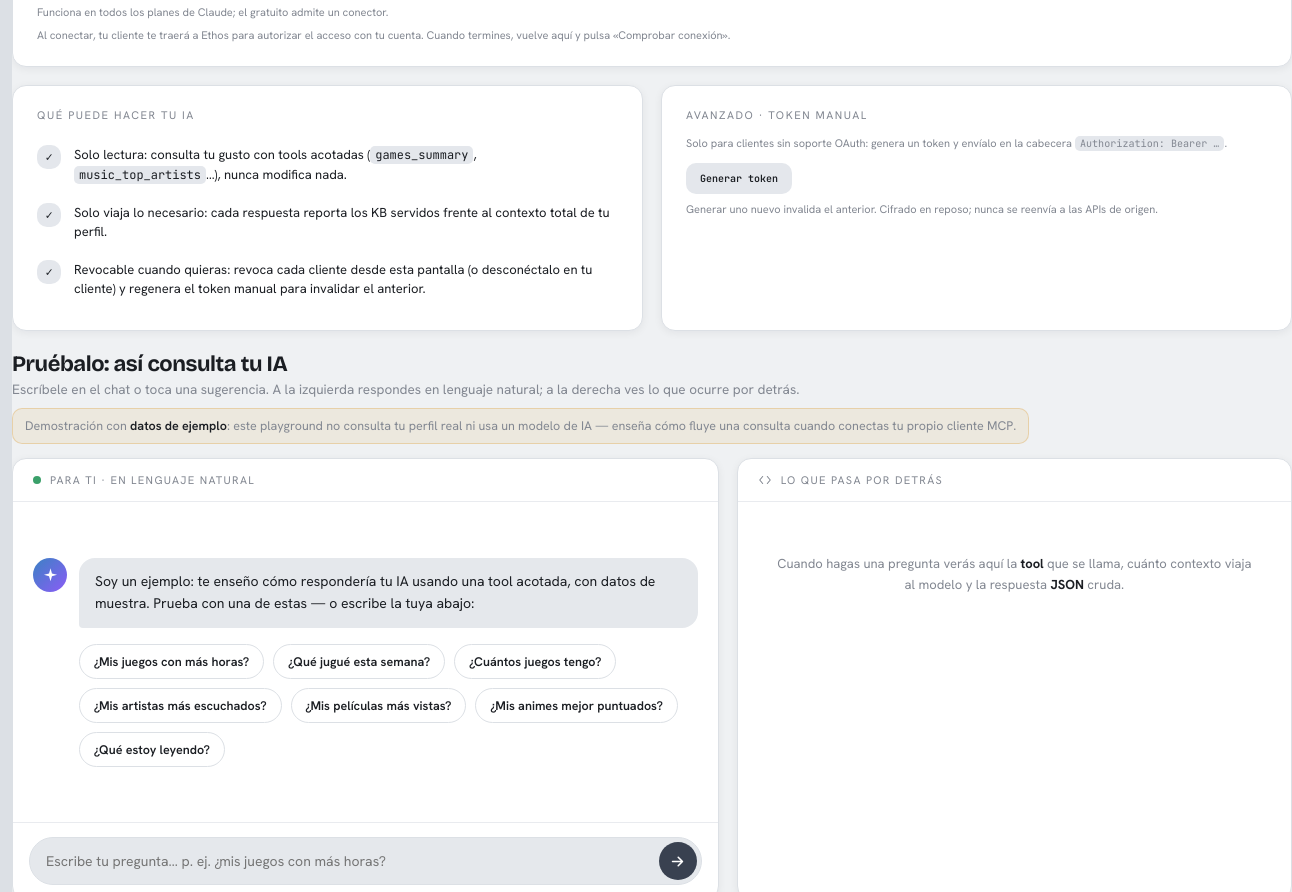
Scenario: ConnectAi › enruta una consulta de series a film.top_movies
(page scrolled)
Type "¿qué series vi?" into the field labelled "Escribe tu pregunta… p. ej. ¿mis juegos con más horas?".
click(348, 861); type("¿qué series vi?")  # box [46, 843, 651, 879]
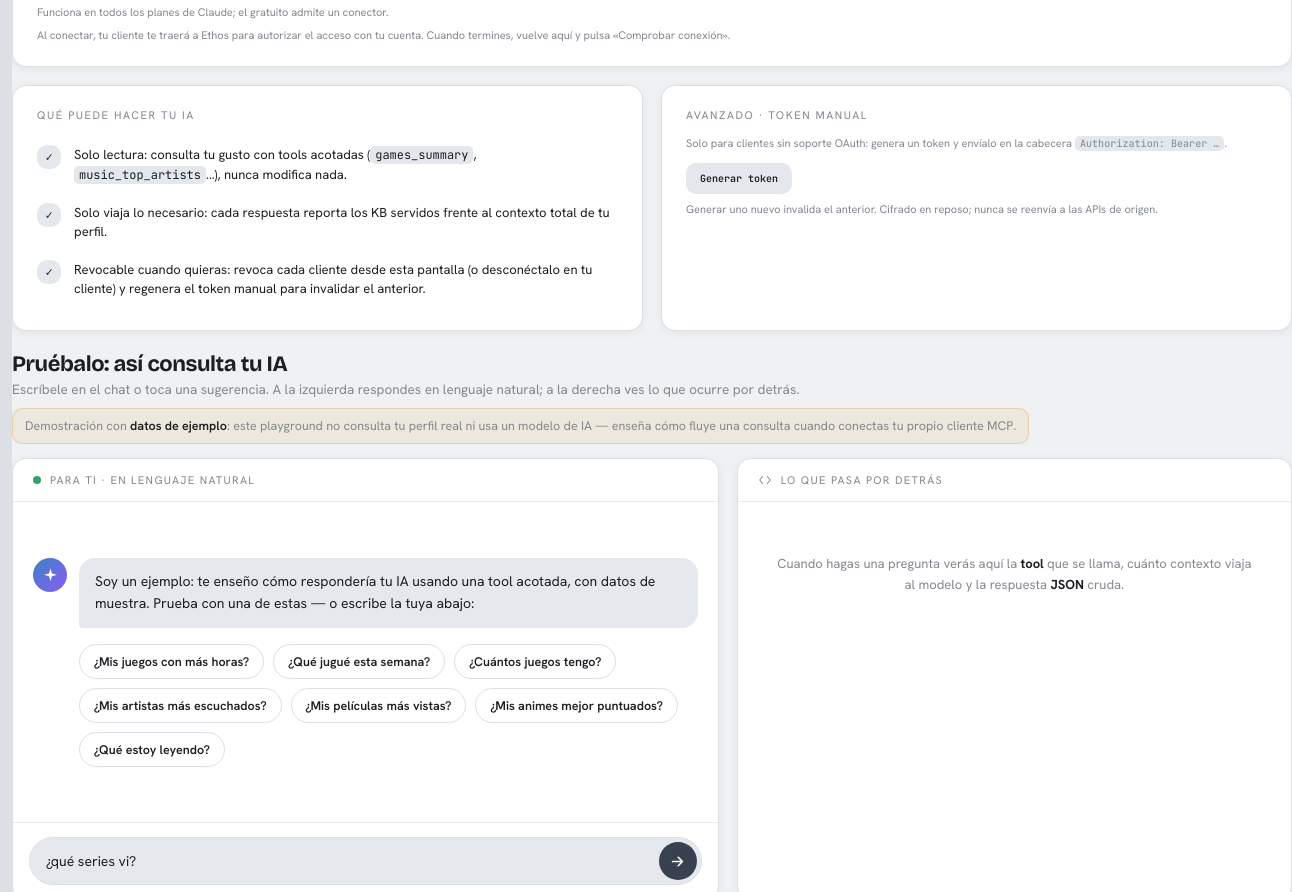
Press Enter in the field named "Escribe tu pregunta", box [46, 843, 651, 879]
Wait 800 ms
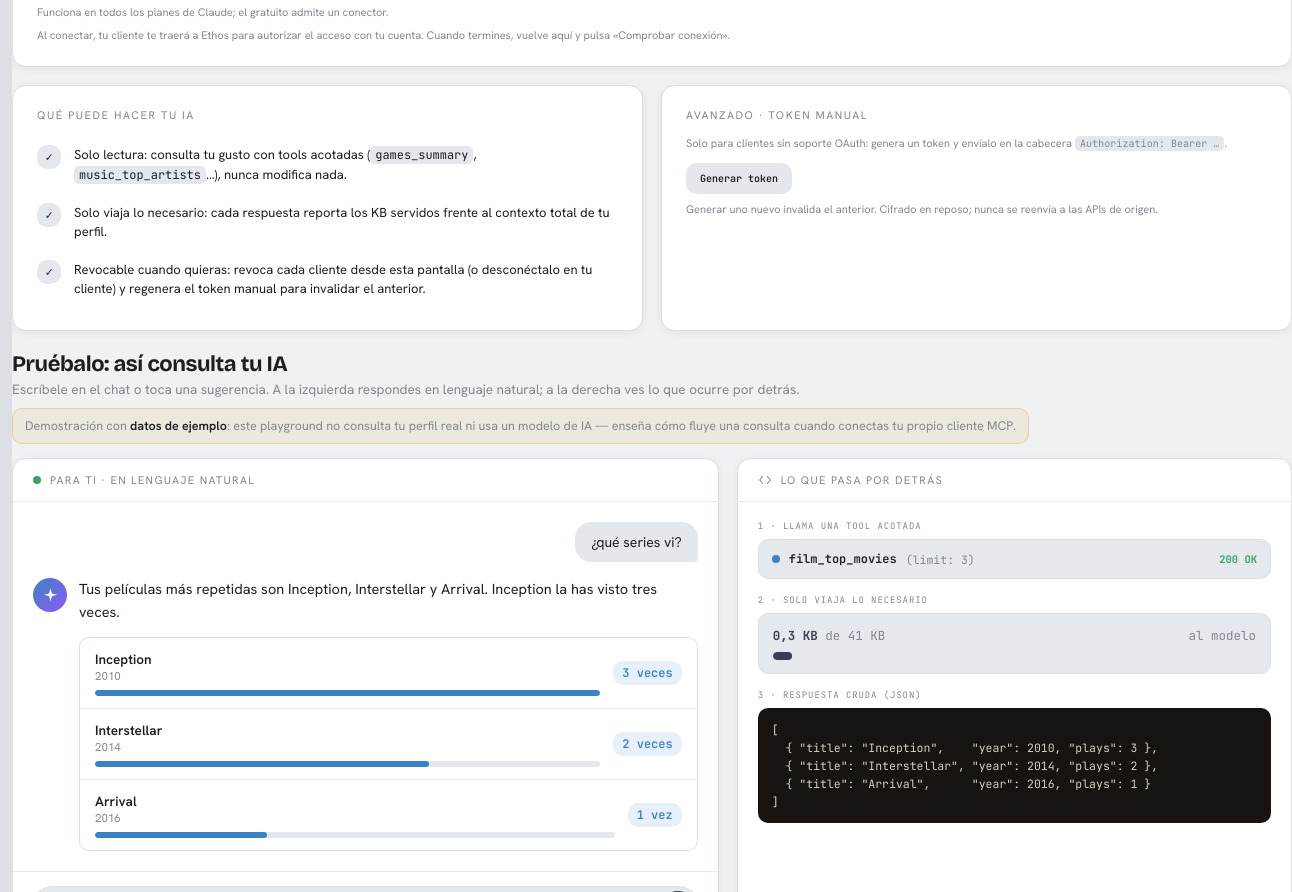
Expected: the text "film_top_movies" is shown, [789, 551, 897, 567]
